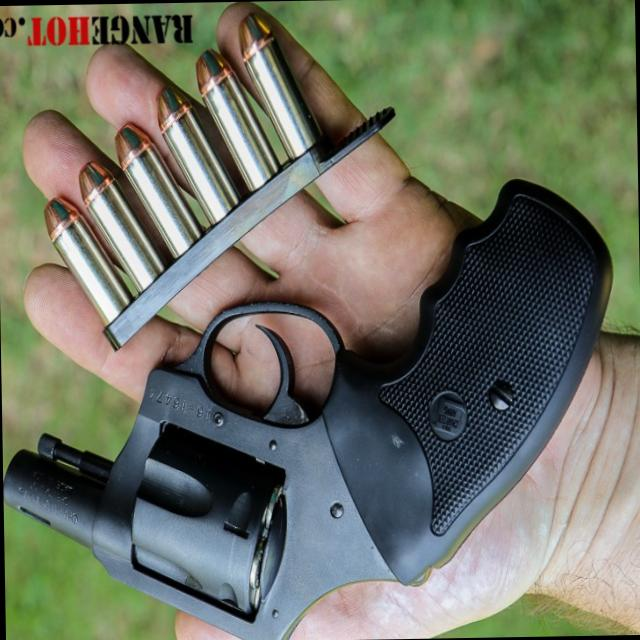Gun: (0, 53, 614, 640)
